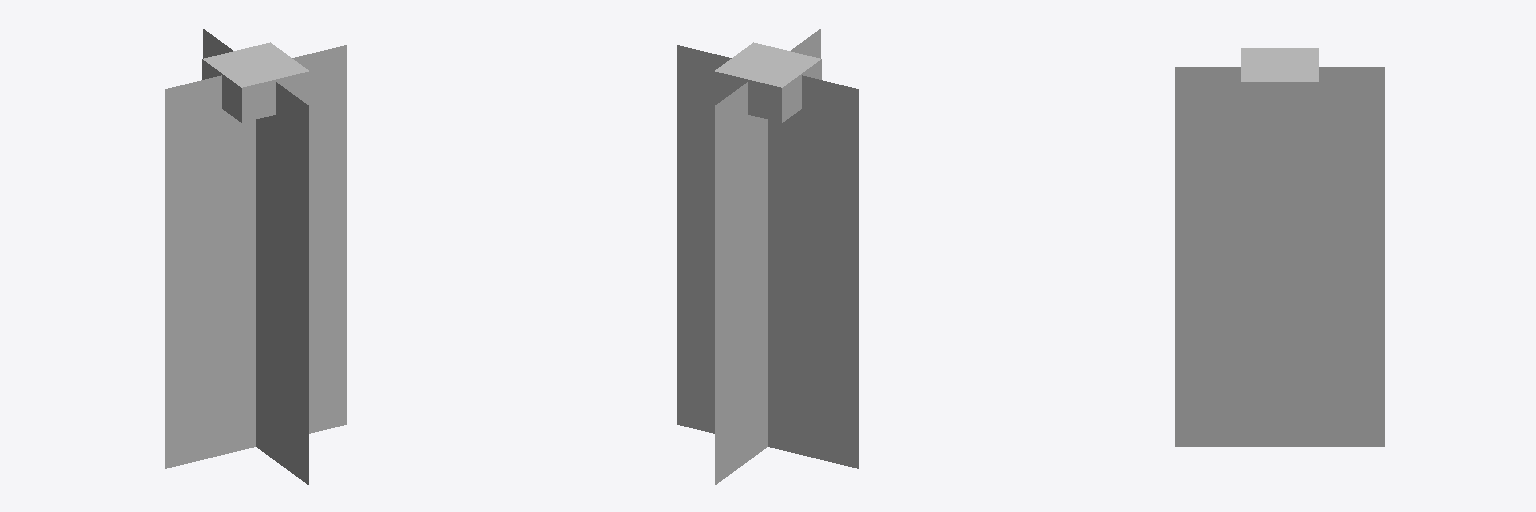
The model's file is hangingflower.obj.
3 views of the same model, side by side, from view 1: azimuth 30°, elevation 25°; view 2: azimuth 150°, elevation 25°; view 3: azimuth 270°, elevation 25° (orthographic).
Visible parts, largest first — view 1: Cube_Cube.002; view 2: Cube_Cube.002; view 3: Cube_Cube.002.
Part boxes in pixels (left/top/right/bottom): Cube_Cube.002: left=165, top=29, right=346, bottom=484; Cube_Cube.002: left=677, top=29, right=858, bottom=484; Cube_Cube.002: left=1175, top=48, right=1384, bottom=446.
Size of the model in its own units: 2 by 4 by 2.